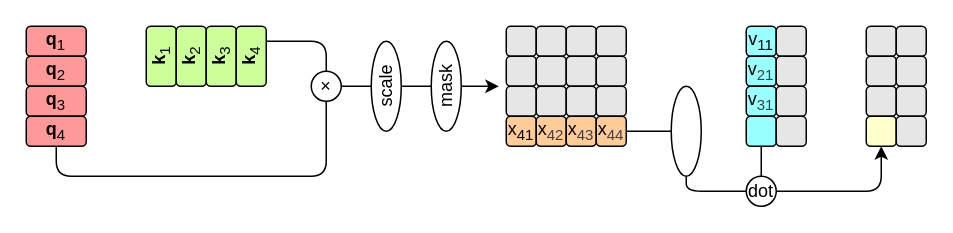
Some shapes in this 953 by 233 pixel diagram are drawn without their labels. Each missing label, with the box of its shape:
o 41: (865, 115, 896, 146)
softmax: (670, 85, 701, 176)
v 41: (745, 115, 776, 146)
